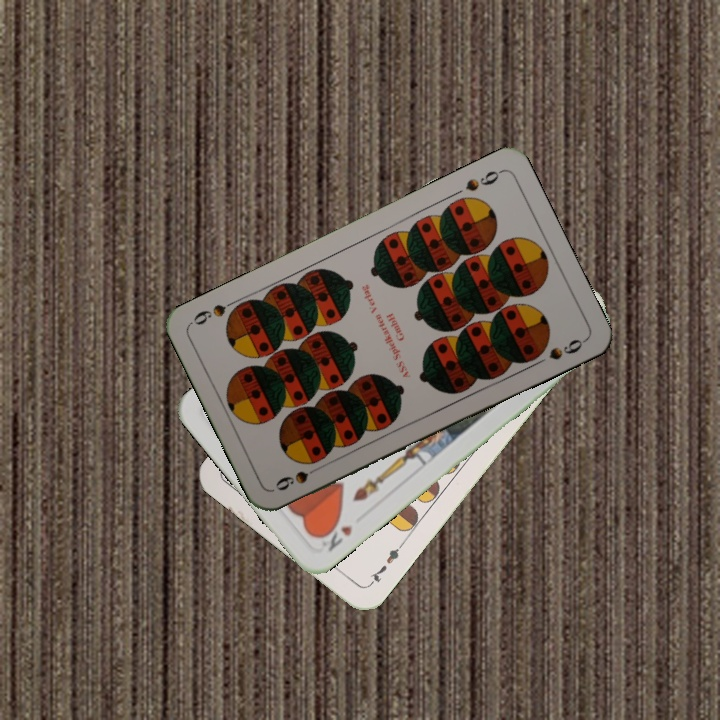E7: (365, 539, 407, 589)
HK: (314, 516, 356, 554)
S9: (271, 462, 326, 494), (461, 166, 505, 194)
